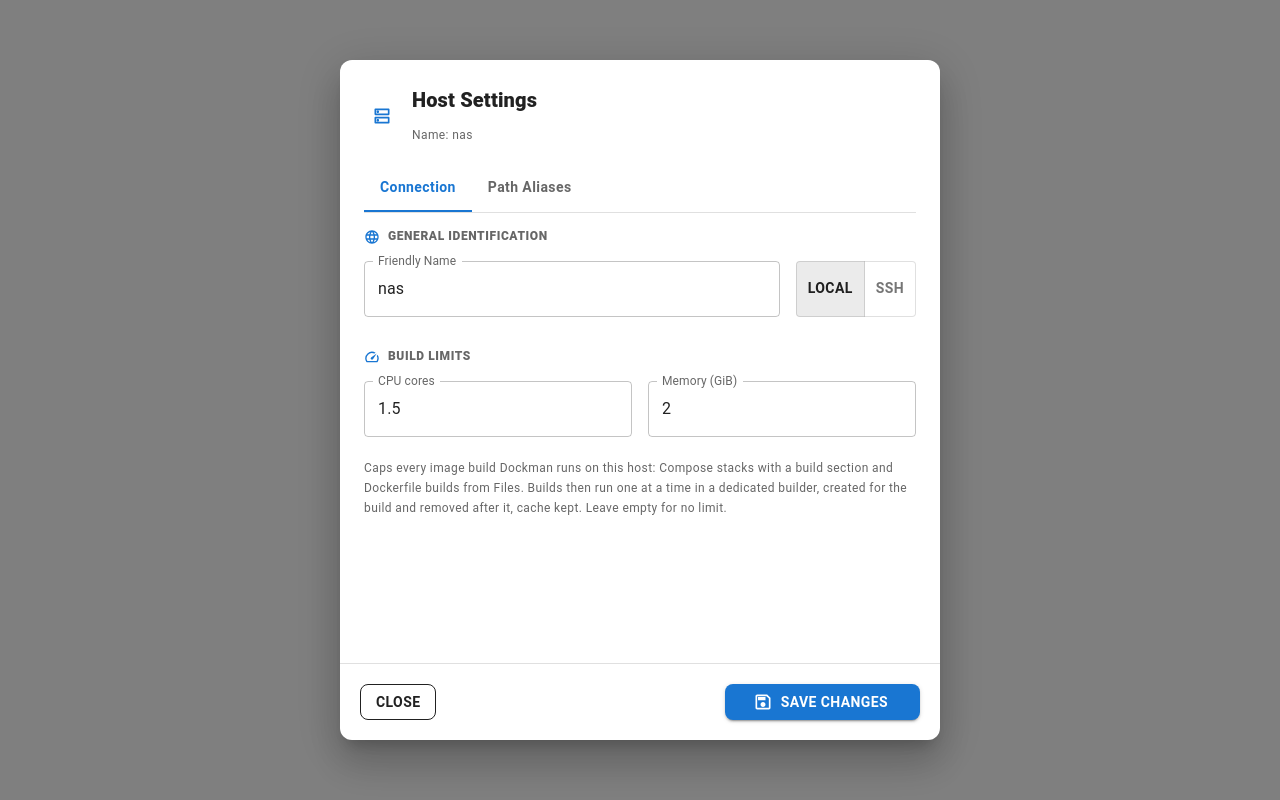
HostWizardDialog build limits › refuses a limit BuildKit cannot run under, and says why
The image size is (1280, 800).
Replace the text in the field named "Build CPU cores" with "0.05" at coordinates (498, 409), box [364,381,632,437]
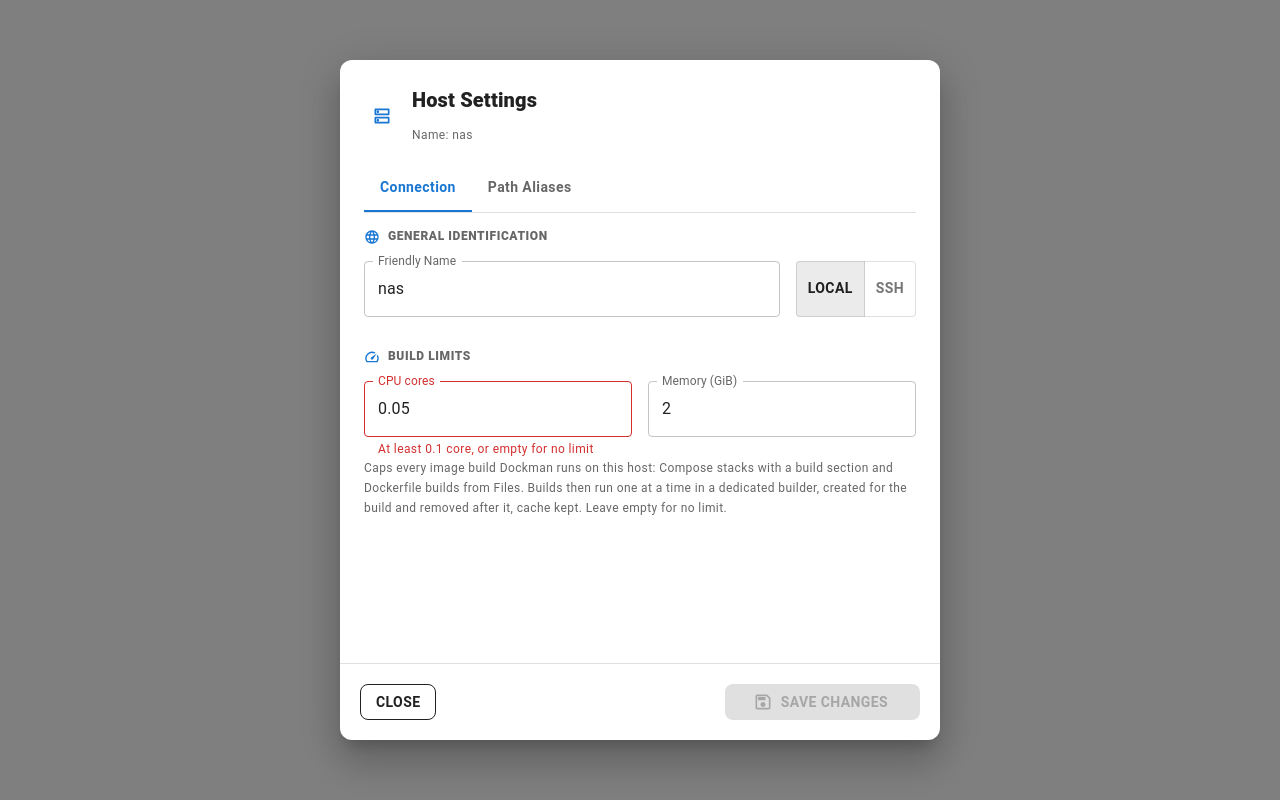
Result: the button "Save Changes" is disabled at [725,684,920,720]
Result: the text "At least 0.1 core, or empty for no limit" is shown at [378,440,618,460]
